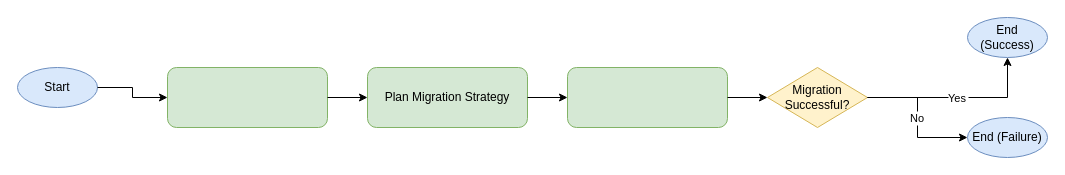
Some shapes in this 1065 by 175 pixel diagram are drawn without their labels. The centre of each missing label's shape, as x and y in pixels:
"Assess Source Environment" belongs at pixel 247 97.
"Execute Migration" belongs at pixel 647 97.
